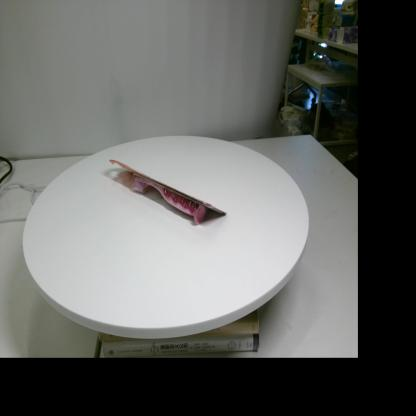Personal Hygiene: (109, 160, 227, 224)
